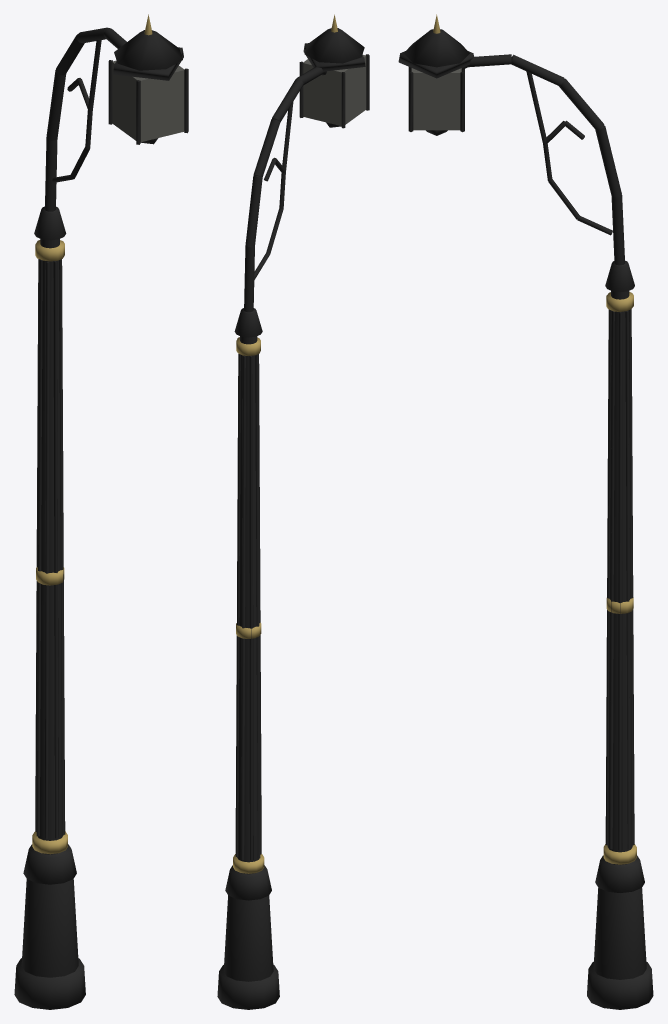
File: street.light.heritage_lantern.glb
3 views of the same model, side by side, from view 1: azimuth 30°, elevation 25°; view 2: azimuth 150°, elevation 25°; view 3: azimuth 270°, elevation 25° (orthographic). The views are drawn at different scales.
Parts seen in each view (by area): view 1: main__galv_222, main__timber_222, main__paint_555, main__timber_b95; view 2: main__galv_222, main__timber_222, main__paint_555, main__timber_b95; view 3: main__galv_222, main__timber_222, main__paint_555, main__timber_b95.
Part boxes in pixels (x1,y1,x2,y2): main__galv_222: [14, 206, 85, 1009]; main__timber_222: [45, 27, 188, 211]; main__paint_555: [112, 60, 184, 142]; main__timber_b95: [32, 240, 67, 854]; main__galv_222: [217, 308, 279, 1009]; main__timber_222: [244, 28, 369, 312]; main__paint_555: [303, 54, 366, 125]; main__timber_b95: [233, 337, 264, 873]; main__galv_222: [587, 260, 653, 1009]; main__timber_222: [398, 29, 624, 265]; main__paint_555: [411, 68, 461, 130]; main__timber_b95: [603, 292, 636, 864].
Size of the model in its own units: 0.46 by 6.5 by 1.53.
